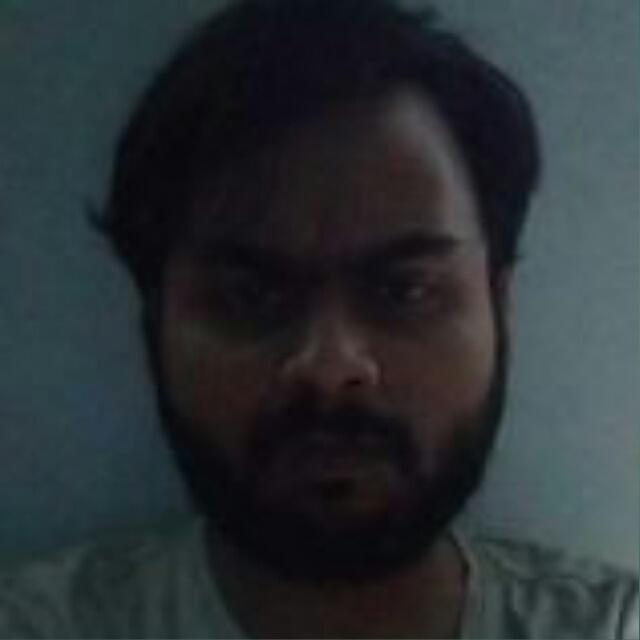Angry: (109, 67, 533, 603)
